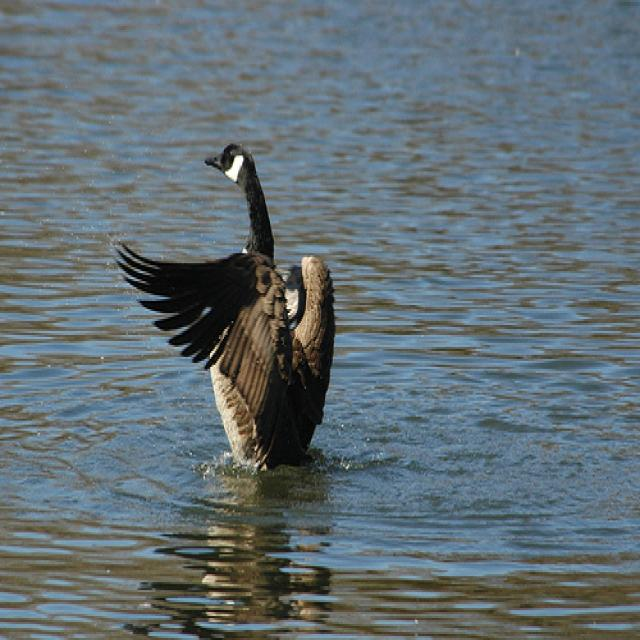bird: (113, 143, 337, 474)
